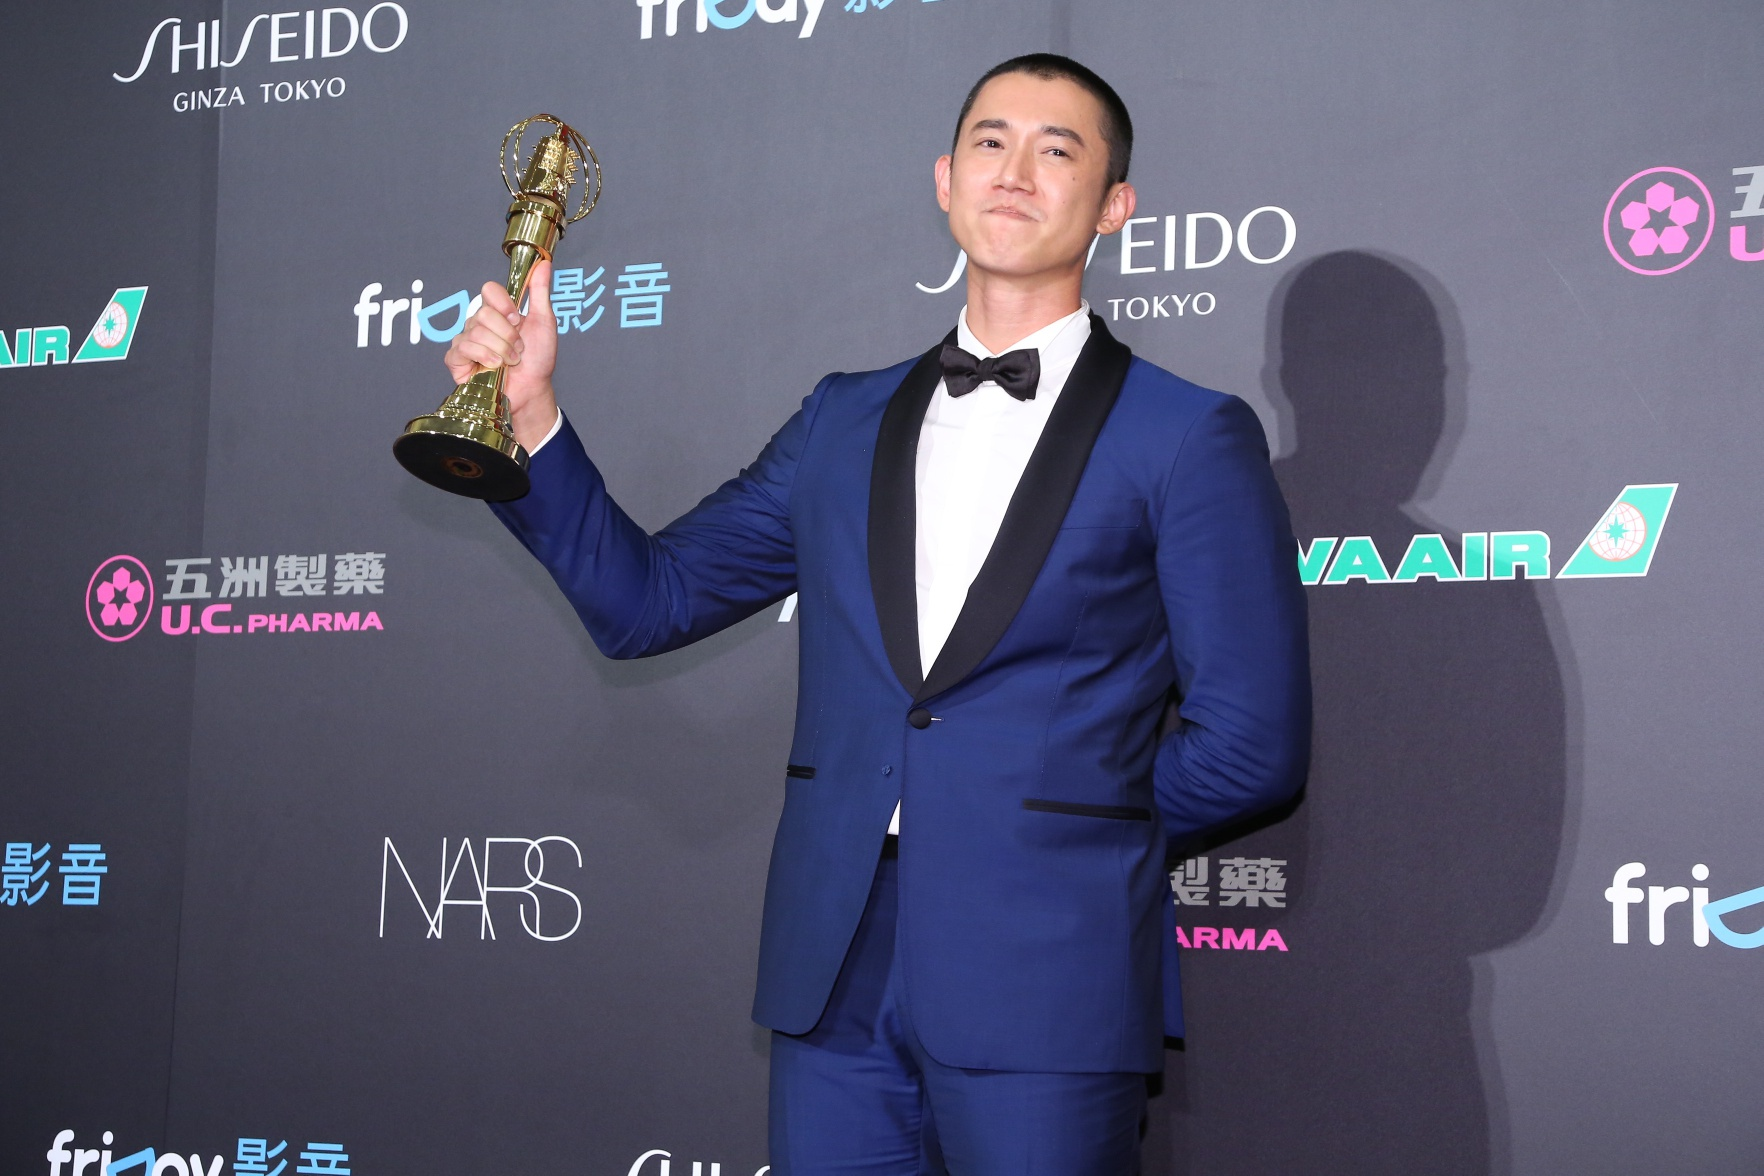male: (921, 47, 1143, 325)
